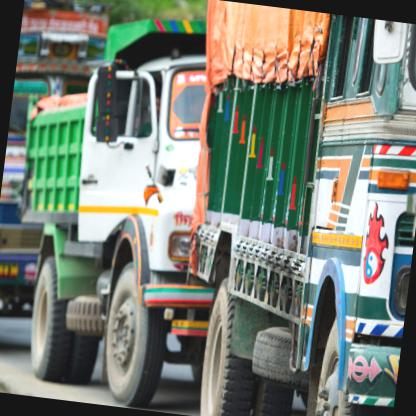truck: (155, 0, 415, 415), (0, 0, 215, 411)
